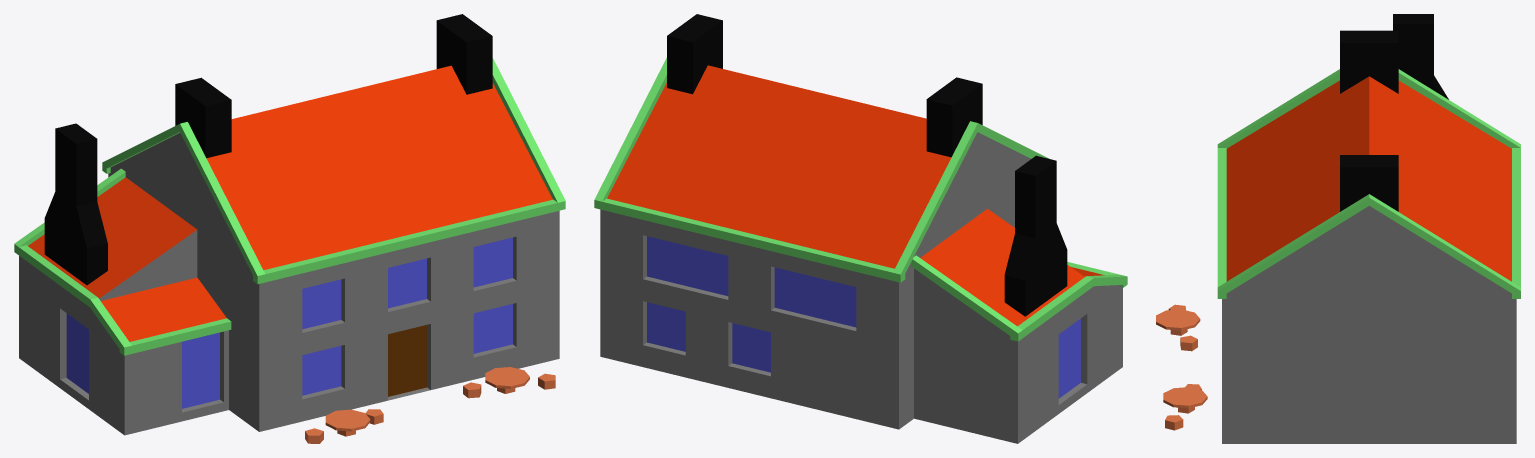
File: pub.fbx
3 views of the same model, side by side, from view 1: azimuth 30°, elevation 25°; view 2: azimuth 150°, elevation 25°; view 3: azimuth 270°, elevation 25° (orthographic). The views are drawn at different scales.
Visible parts, largest first — view 1: tableTopRight; view 2: tableTopRight; view 3: tableTopRight.
Boxes of the visible parts, left/top/right/bottom form: tableTopRight: left=14, top=14, right=565, bottom=443; tableTopRight: left=594, top=14, right=1127, bottom=443; tableTopRight: left=1156, top=14, right=1520, bottom=443.
Bounding box in the file's own units: 98.44 × 64.06 × 77.46.
